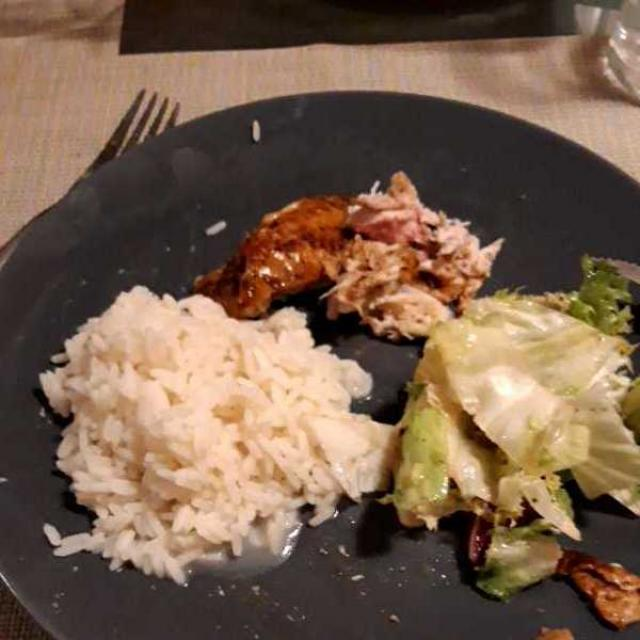chicken: (204, 181, 491, 342)
rice: (45, 300, 391, 572)
salad-leaf-salad-green: (383, 264, 626, 600)
